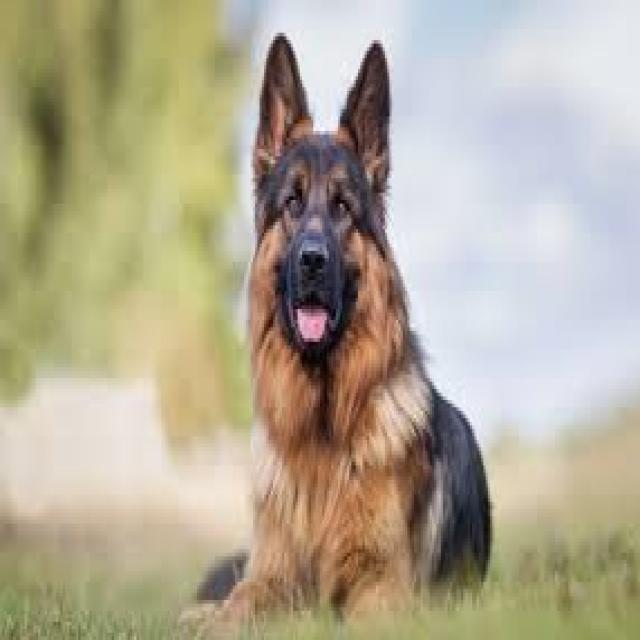GERMAN_SHEPHERD: (195, 33, 500, 627)
